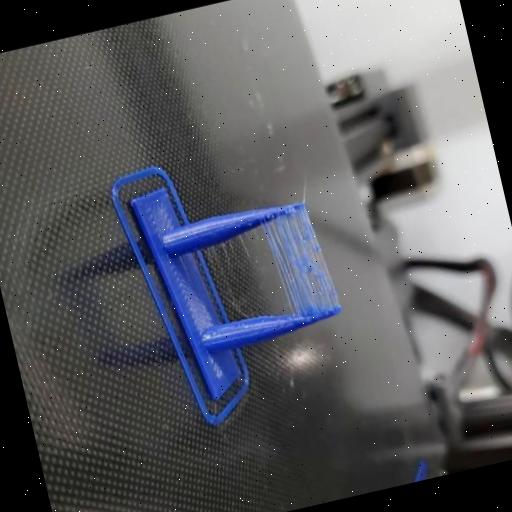stringing: (269, 214, 336, 312)
